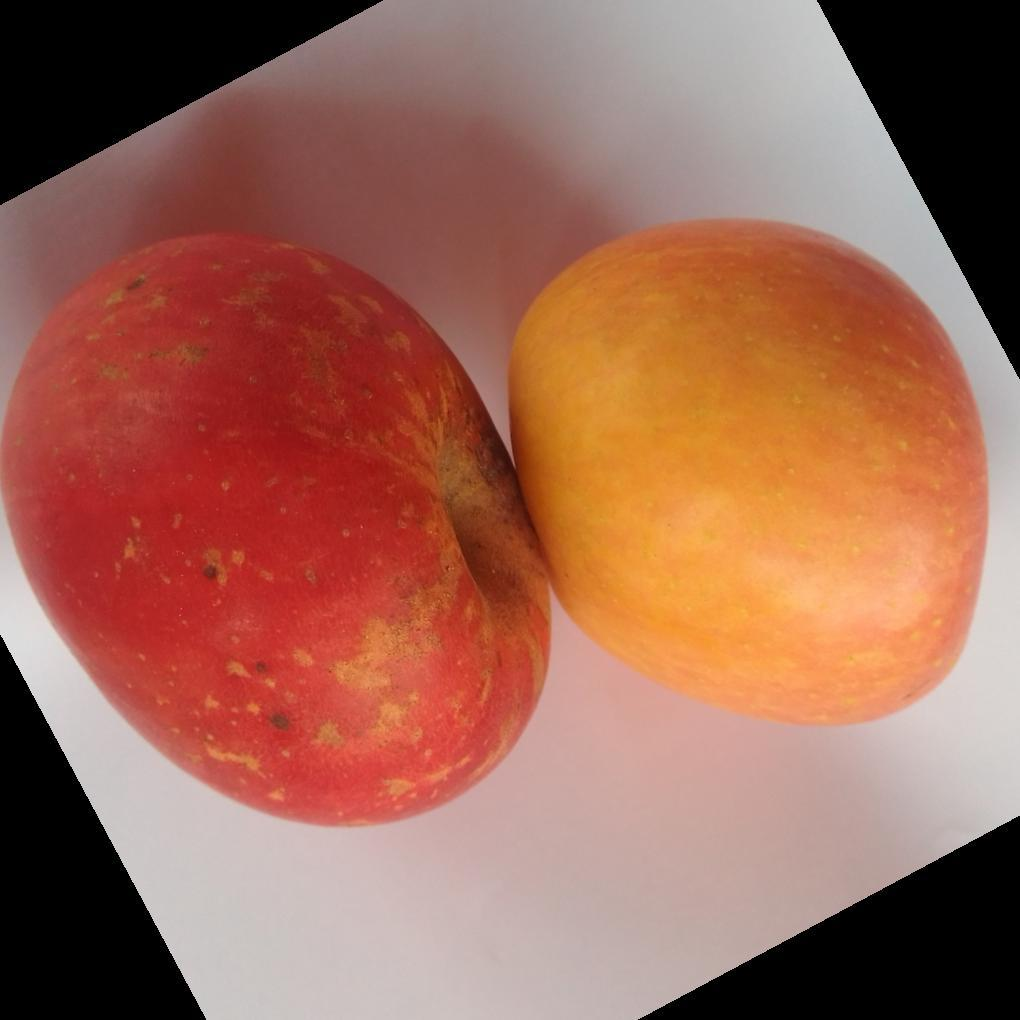FreshGuava: (0, 221, 991, 832)
